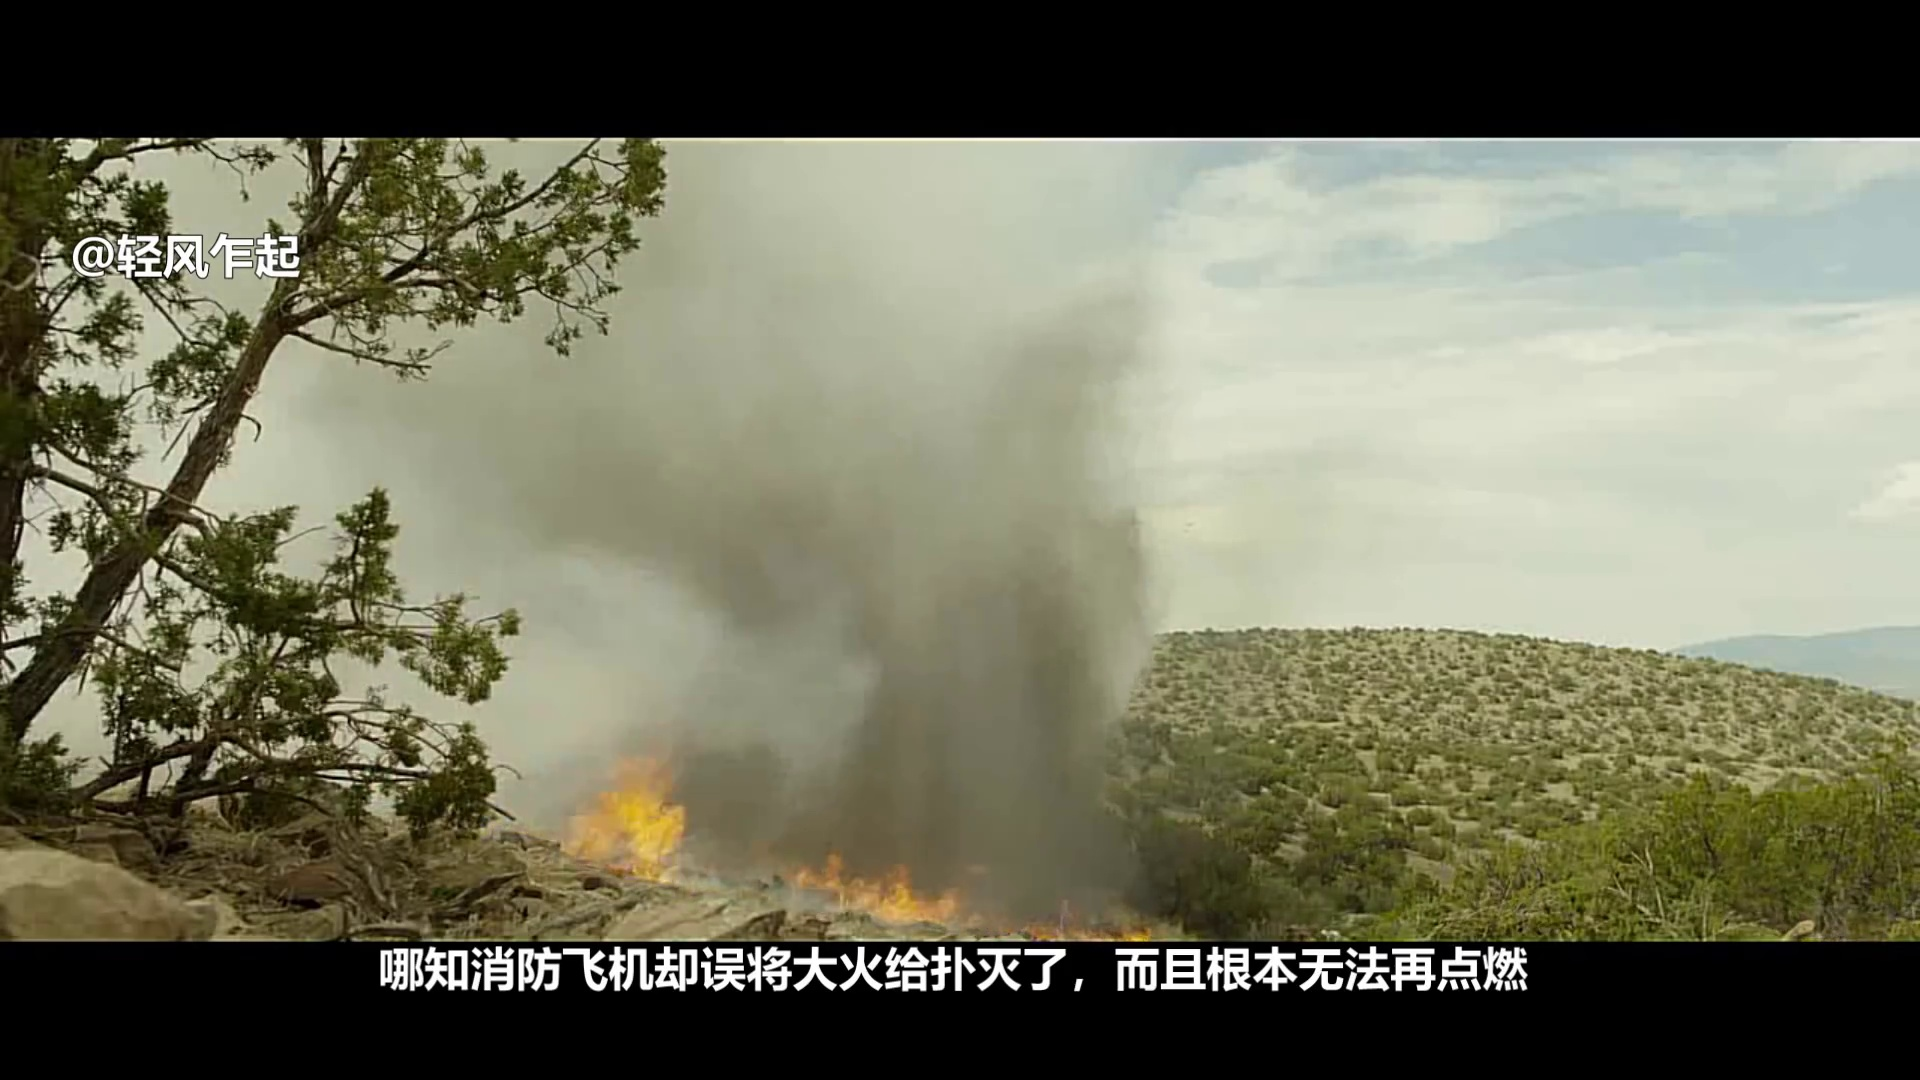fire: (582, 781, 690, 877), (860, 881, 957, 922)
